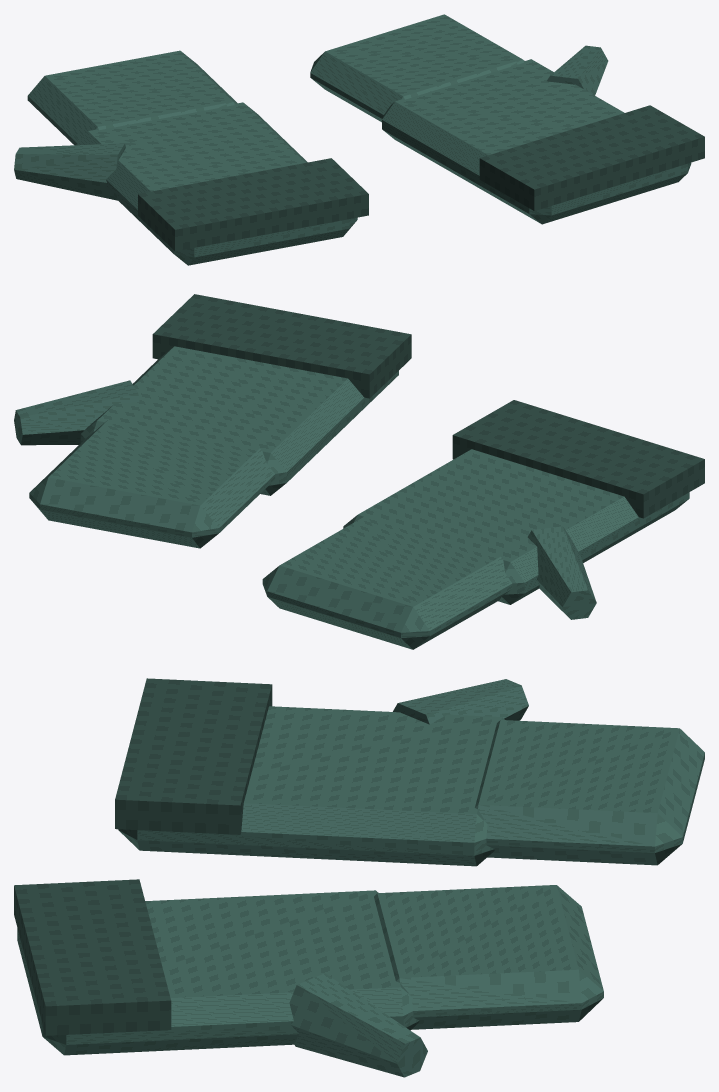
The model's file is mittens.glb.
3 renders of one model, top to bottom at view 1: azimuth 30°, elevation 25°; view 2: azimuth 150°, elevation 25°; view 3: azimuth 270°, elevation 25°, orthographic. The views are drawn at different scales.
Parts seen in each view (by area): view 1: block_palm and cuff (×2), block_rib cuff (×2), block_mitten tip (×2), block_thumb (×2); view 2: block_mitten tip (×2), block_palm and cuff (×2), block_rib cuff (×2), block_thumb (×2); view 3: block_palm and cuff (×2), block_mitten tip (×2), block_rib cuff (×2), block_thumb (×2).
Boxes of the visible parts, <box> form: block_palm and cuff (×2): <box>76,59,691,265</box>; block_rib cuff (×2): <box>138,105,704,251</box>; block_mitten tip (×2): <box>27,14,524,145</box>; block_thumb (×2): <box>14,45,608,200</box>; block_mitten tip (×2): <box>29,420,512,649</box>; block_palm and cuff (×2): <box>80,346,689,604</box>; block_rib cuff (×2): <box>152,294,704,518</box>; block_thumb (×2): <box>14,380,596,619</box>; block_palm and cuff (×2): <box>17,706,504,1055</box>; block_mitten tip (×2): <box>374,720,704,1029</box>; block_rib cuff (×2): <box>14,678,272,1035</box>; block_thumb (×2): <box>289,679,528,1077</box>.
Size of the model in its own units: 0.2433 by 0.0195 by 0.1915.
1 material, 1 textured.
